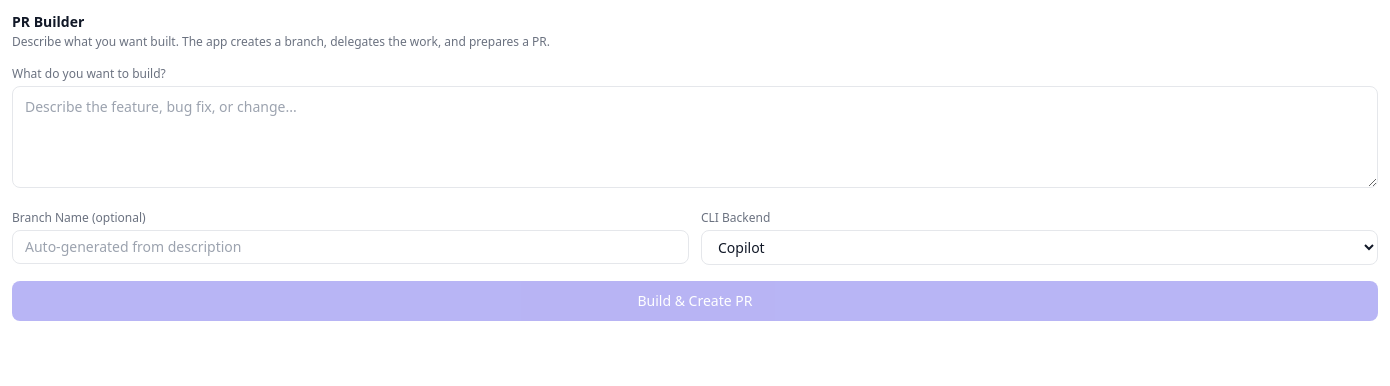
Test: PRBuilder › shows error message on failure
The image size is (1390, 386).
Type "Build dashboard" into the text box with placeholder "Describe the feature, bug fix, or change...". click: (695,137)
box: [12,86,1378,188]
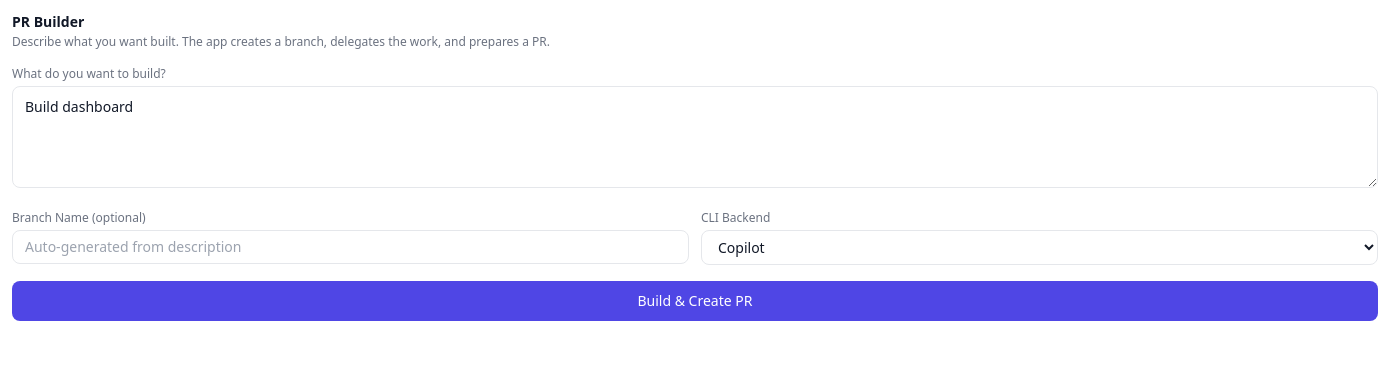
Click the button "Build & Create PR". click: (695,301)
box: [12,281,1378,321]
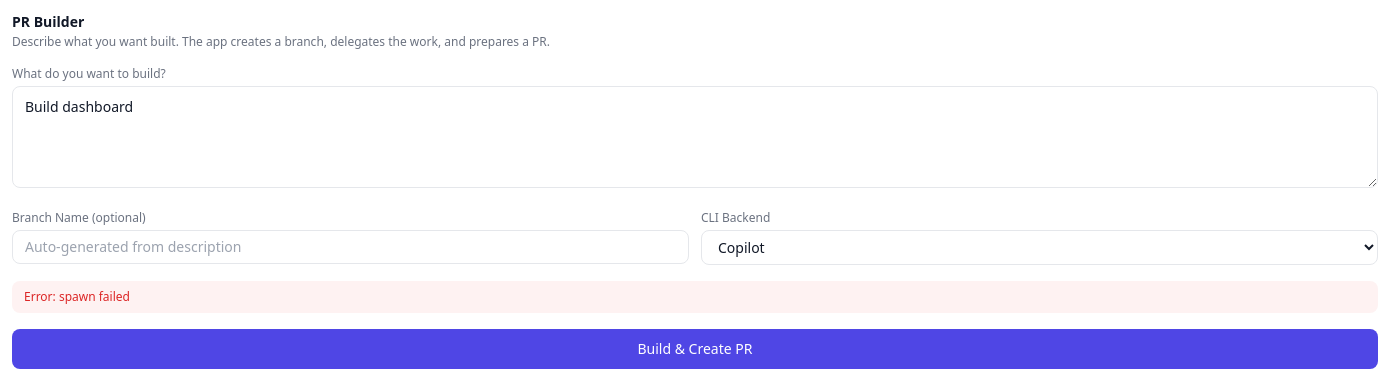
expect the text "Error: spawn failed" is shown: met, box [12,281,1378,313]
